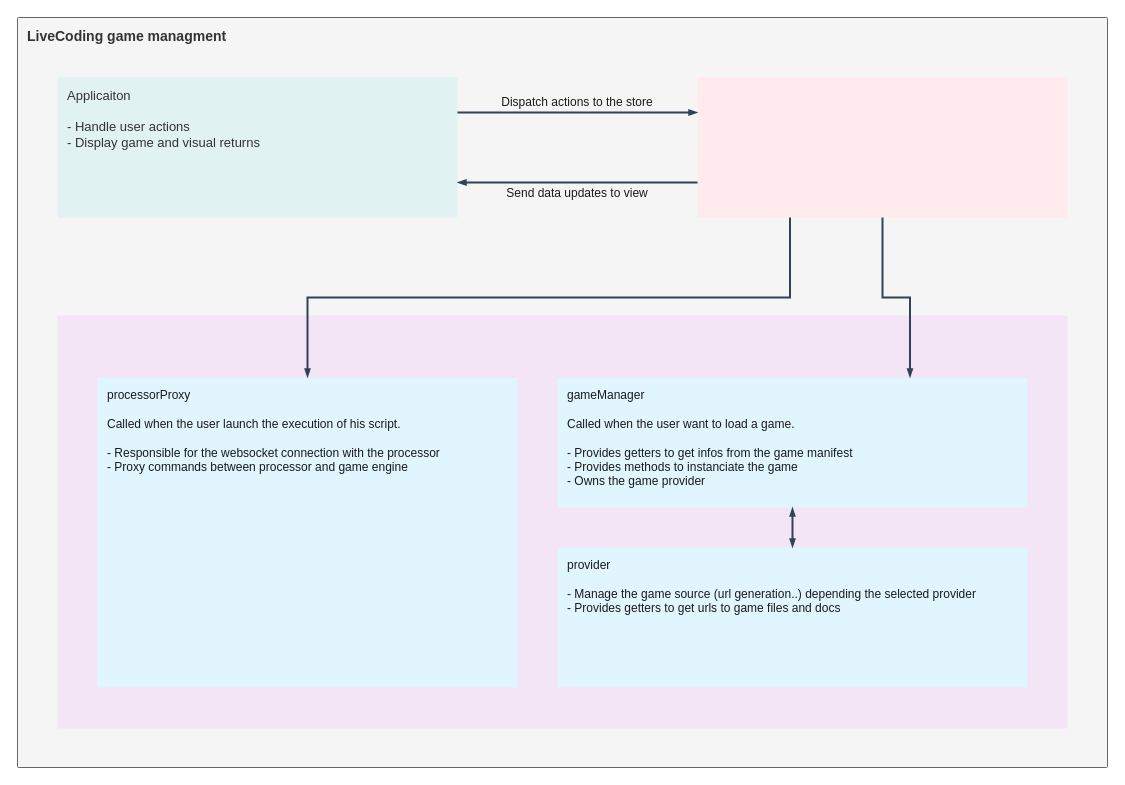
Some shapes in this 1125 by 785 pixel diagram are drawn without their labels. The box of each missing label's shape, as (x1, y1, x2, y2) in pixels:
Game managemnt classes: (57, 315, 1067, 728)
Store - Instanciate and call the correspondig classes depending the user actions: (697, 77, 1067, 217)
